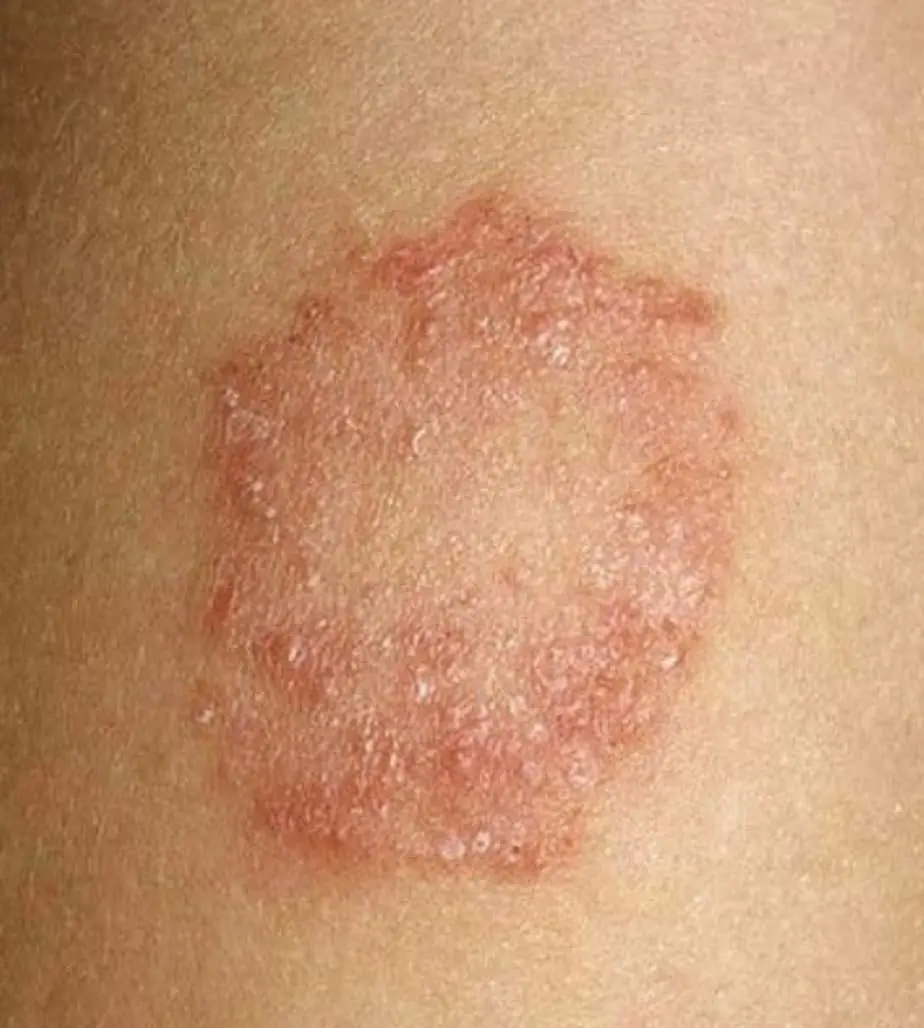Eksim: (185, 163, 739, 928)
